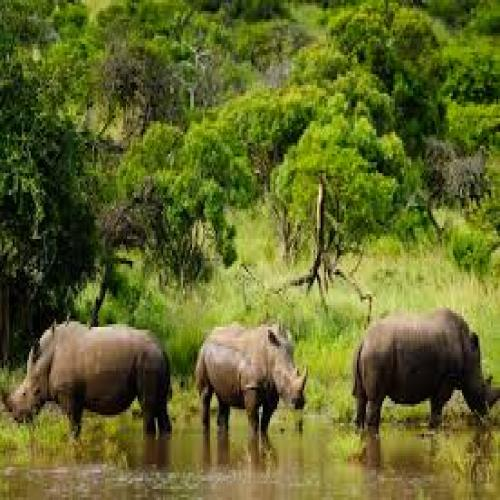rhino-endangered: (5, 312, 178, 450), (348, 309, 500, 446), (187, 315, 316, 448)
